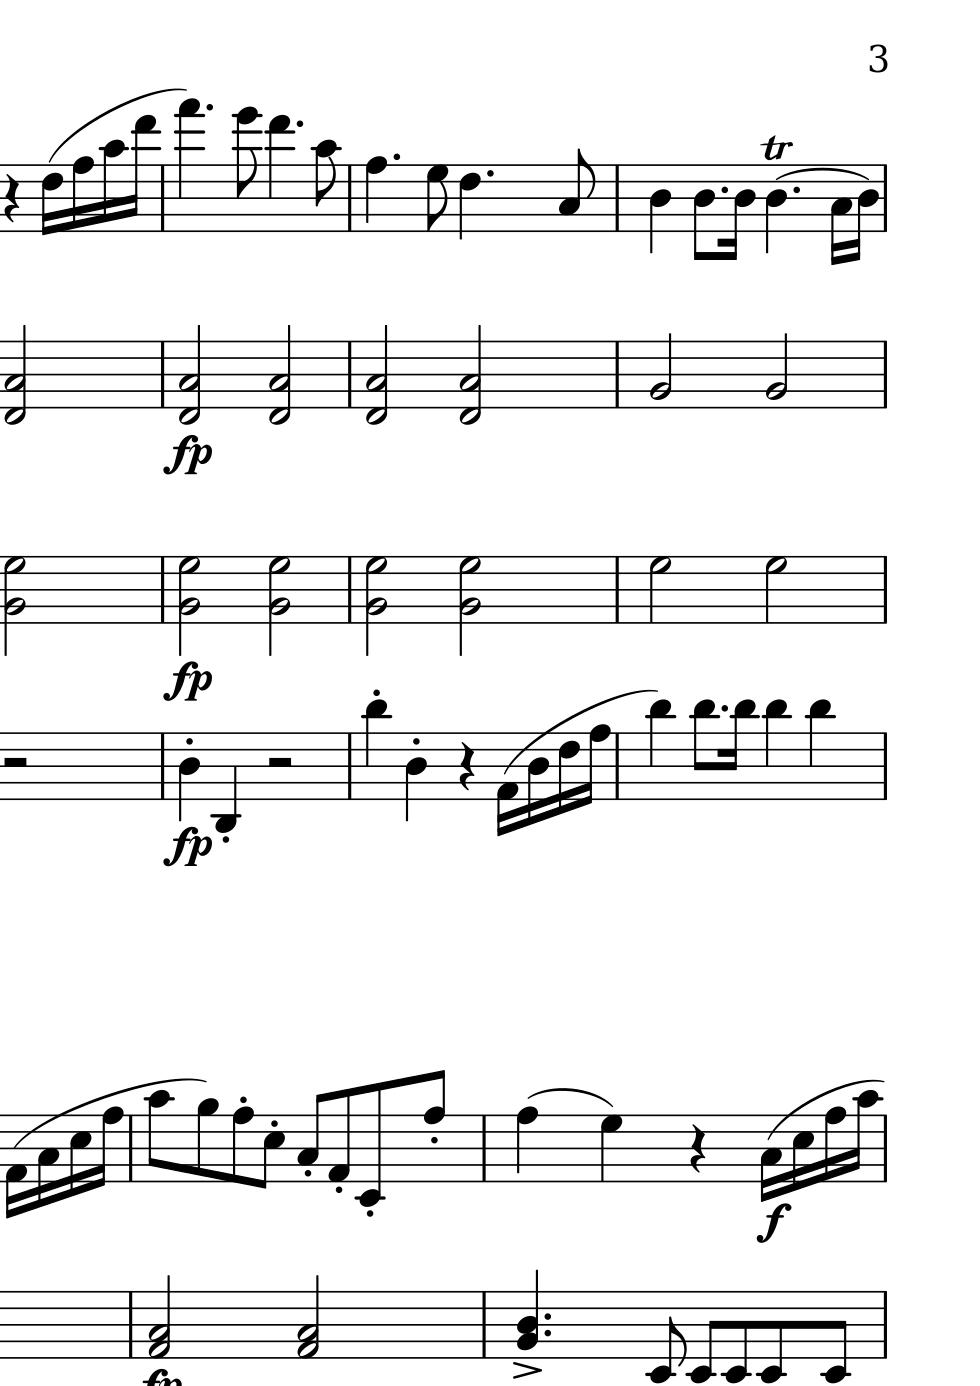16_1: (494, 731, 519, 838), (3, 1113, 27, 1221)
16_10: (848, 1088, 883, 1185), (100, 138, 126, 233)
16_11: (722, 698, 756, 803)
16_13: (126, 112, 156, 235)
16_3: (34, 1113, 60, 1208), (828, 162, 851, 267), (758, 1113, 782, 1201)
16_4: (718, 163, 755, 263), (851, 161, 881, 262), (525, 731, 549, 826), (692, 163, 715, 263)
16_5: (67, 1113, 91, 1197), (790, 1113, 813, 1192)
16_6: (556, 731, 579, 814), (39, 162, 63, 236)
16_8: (93, 1106, 124, 1189), (581, 724, 611, 807), (69, 155, 94, 234), (822, 1106, 846, 1185)
2_-1_3: (363, 323, 389, 424), (2, 324, 28, 425), (176, 322, 202, 423), (266, 323, 292, 424), (457, 323, 483, 424)
2_1_3: (295, 1271, 321, 1358), (147, 1274, 173, 1361)
2_2: (647, 332, 673, 409), (764, 332, 790, 409)
2_2_7: (363, 554, 388, 655), (176, 554, 202, 655), (457, 554, 482, 655), (266, 554, 291, 655), (2, 554, 27, 655)
2_7: (762, 554, 788, 626), (647, 554, 672, 626)
3: (867, 42, 889, 75)
4_-3: (213, 730, 240, 838)
4_11: (362, 697, 390, 801), (645, 697, 673, 801), (763, 698, 790, 802), (806, 697, 833, 802)
4_13: (265, 115, 293, 234)
4_15: (173, 99, 204, 232)
4_2_4: (517, 1269, 541, 1359)
4_4: (646, 162, 671, 257), (176, 731, 202, 824), (763, 163, 788, 256), (403, 733, 427, 824)
4_6: (457, 163, 482, 241)
4_7: (598, 1115, 623, 1185)
4_8: (361, 154, 387, 234), (513, 1105, 538, 1185)
8_-2: (645, 1287, 686, 1383), (355, 1081, 384, 1209), (688, 1289, 719, 1384), (820, 1289, 850, 1384), (722, 1289, 749, 1386), (758, 1289, 785, 1385)
8_1: (326, 1088, 351, 1186)
8_10: (311, 139, 342, 234), (144, 1089, 173, 1185)
8_11: (690, 698, 718, 800)
8_14: (231, 104, 261, 235)
8_3: (556, 147, 595, 233), (295, 1091, 327, 1185)
8_5: (257, 1115, 286, 1191)
8_7: (424, 163, 449, 234)
8_8: (420, 1068, 447, 1185), (229, 1105, 253, 1185)
8_9: (194, 1096, 220, 1185)
Accent_above: (510, 1361, 543, 1381)
Rests2: (1, 752, 31, 771), (265, 754, 296, 772)
Rests4: (455, 739, 477, 793), (688, 1122, 708, 1175), (3, 171, 20, 226)
Single_barline: (875, 341, 894, 408), (876, 556, 894, 624), (342, 556, 358, 622), (609, 556, 626, 622), (476, 1115, 493, 1181), (154, 733, 171, 799), (342, 733, 358, 799), (876, 733, 893, 799), (608, 165, 625, 230), (877, 1115, 893, 1183), (877, 1291, 893, 1359), (609, 732, 625, 800), (476, 1291, 492, 1358), (154, 341, 170, 408), (155, 556, 171, 622), (342, 165, 357, 230), (342, 343, 357, 407), (609, 343, 625, 407), (877, 164, 892, 233), (123, 1115, 138, 1183), (155, 164, 170, 232), (123, 1292, 138, 1357)
Slur: (528, 1087, 616, 1109), (776, 166, 871, 180)
Trill: (762, 131, 794, 162)
dot: (202, 101, 215, 115), (717, 183, 731, 197), (293, 118, 305, 131), (484, 166, 496, 180), (717, 704, 731, 716), (390, 152, 402, 164), (790, 185, 802, 197), (541, 1311, 553, 1323), (541, 1327, 553, 1339)
f: (754, 1201, 792, 1244)
fp: (159, 825, 215, 872), (161, 433, 213, 479), (162, 661, 212, 704)
